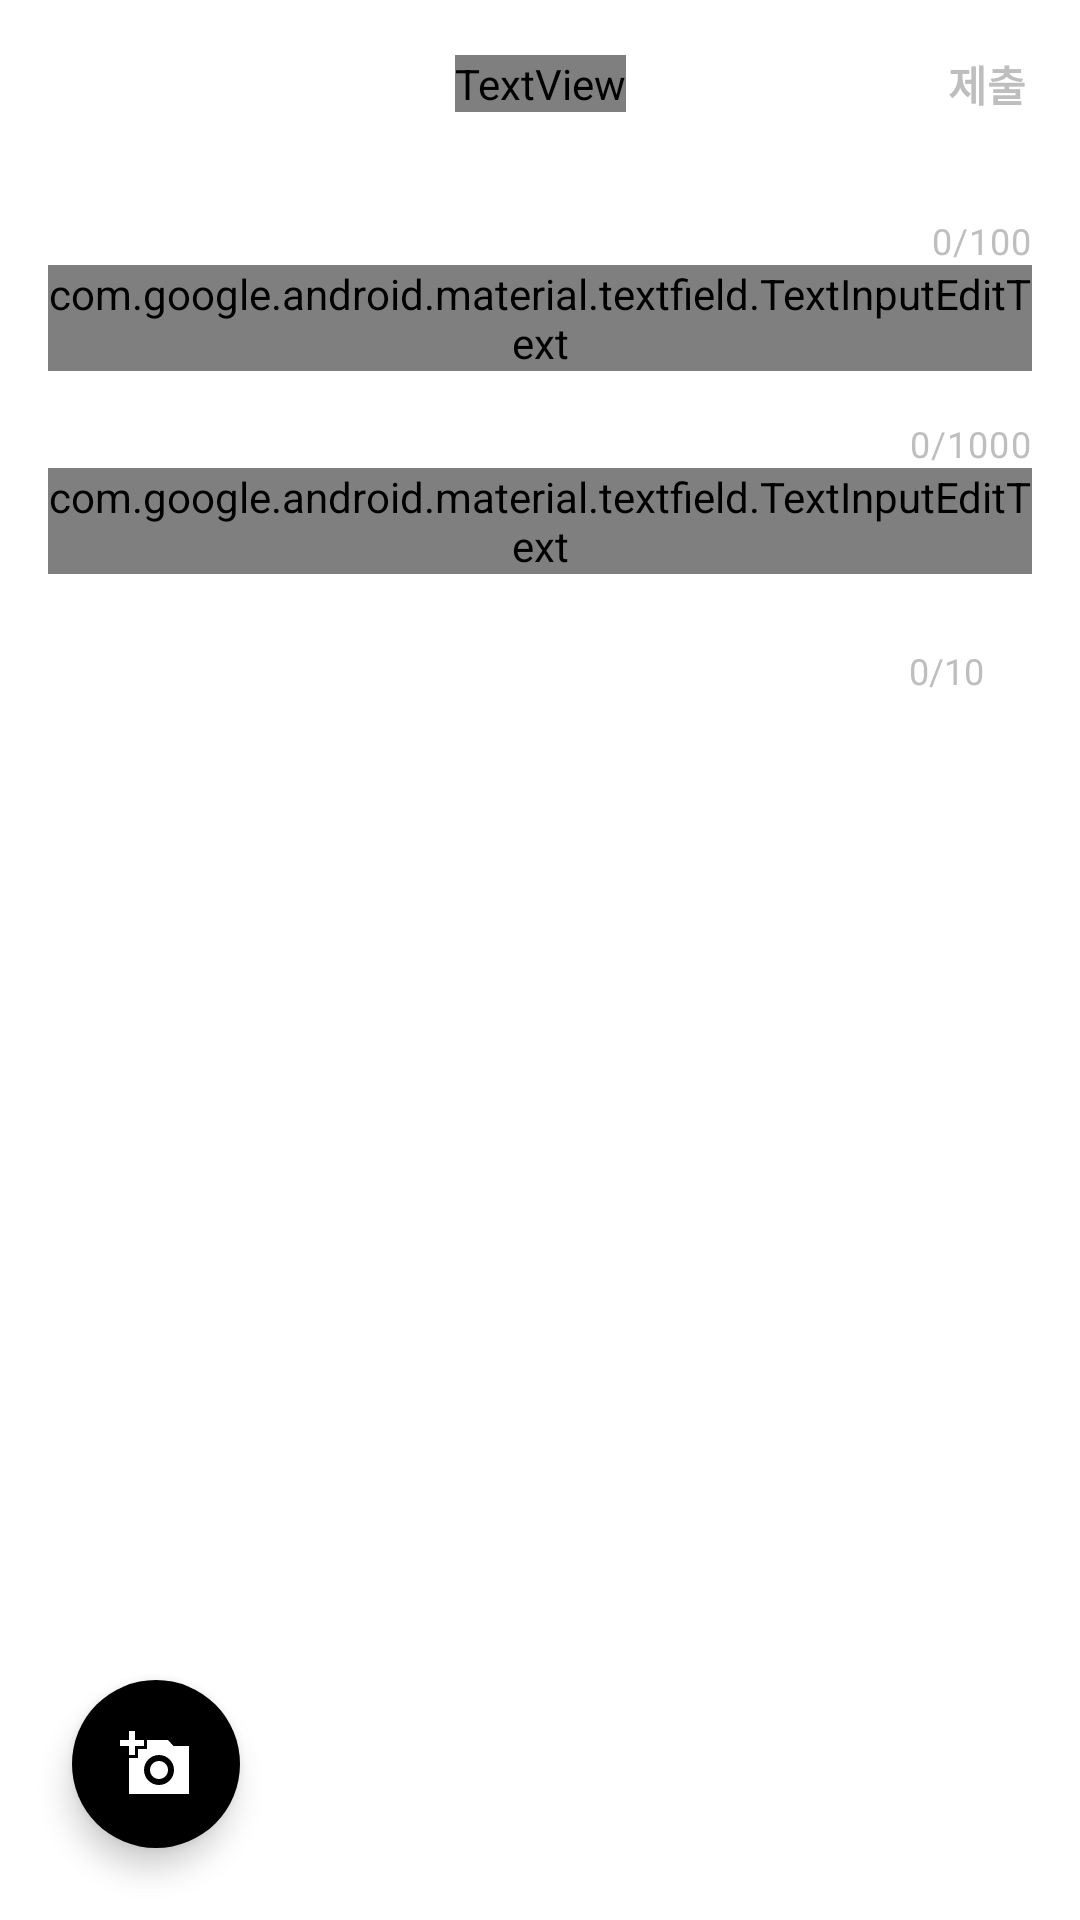

Named icons in this screenshot (1080px×1920px) and their centers, (x=x, y=y):
add photo: (x=156, y=1764)
